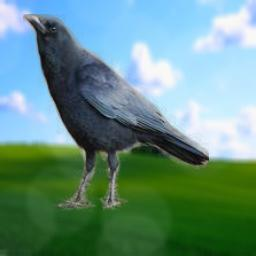Crow: (23, 14, 209, 211)
